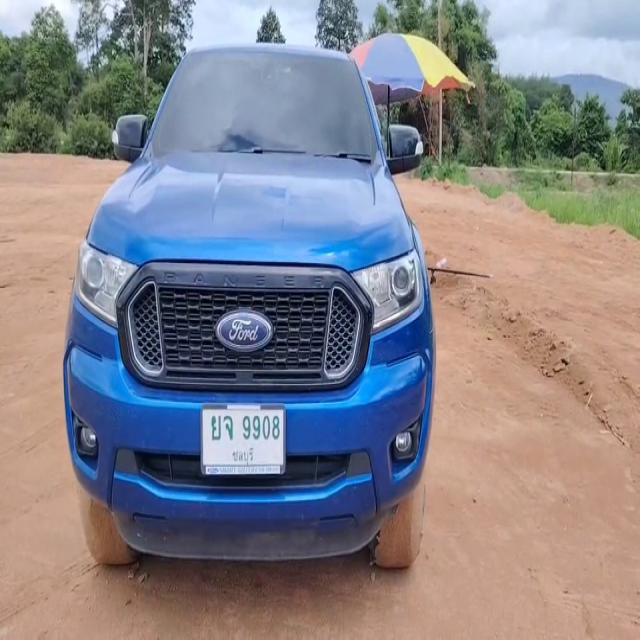Digit: (240, 413, 280, 443)
Licenseplate: (201, 407, 286, 474)
Provincename: (231, 445, 255, 466)
Thaichar: (210, 413, 233, 443)
